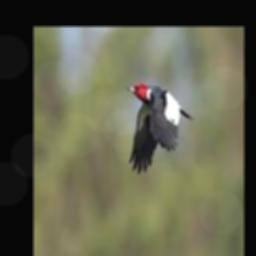Woodpecker: (126, 82, 194, 173)
